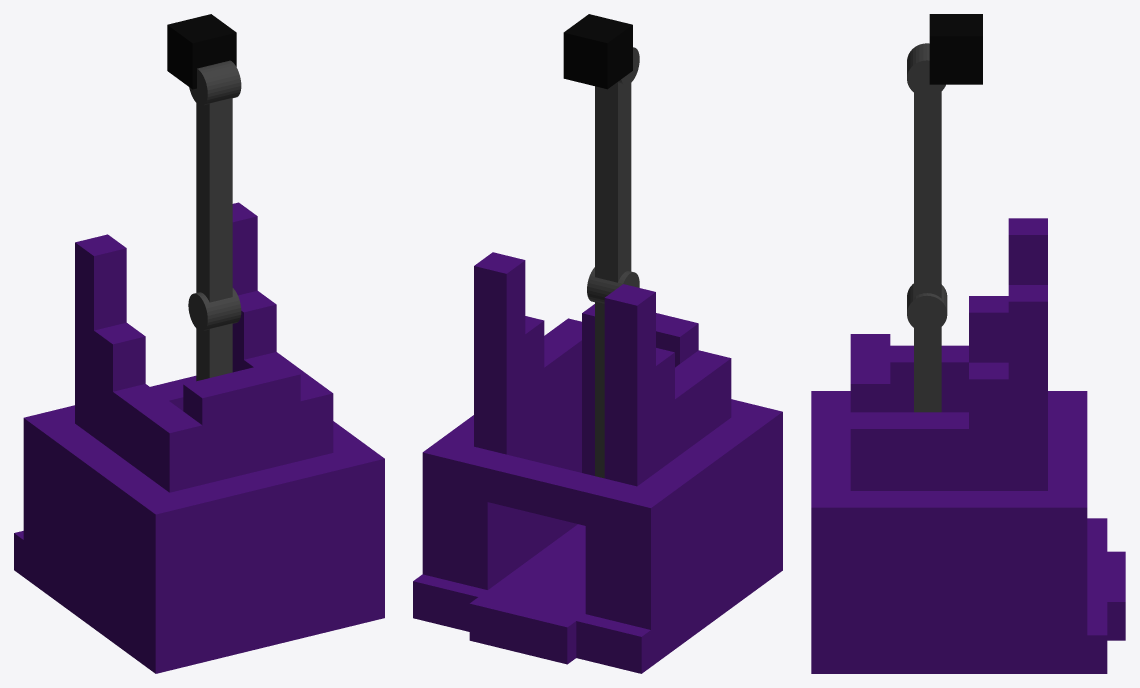
Rendered from FloorIntakeArm.fbx.
3 renders of one model, left to right at view 1: azimuth 30°, elevation 25°; view 2: azimuth 150°, elevation 25°; view 3: azimuth 270°, elevation 25°, orthographic. The views are drawn at different scales.
Parts seen in each view (by area): view 1: Base, MidArm, Grabber, BaseArm; view 2: Base, MidArm, Grabber, BaseArm; view 3: Base, MidArm, Grabber, BaseArm.
Boxes of the visible parts, x1,y1,x2,y2 form: Base: (14,202,384,673); MidArm: (189,60,241,302); Grabber: (167,14,236,89); BaseArm: (188,288,241,381); Base: (413,252,782,673); MidArm: (595,47,639,282); Grabber: (563,14,632,89); BaseArm: (587,267,639,478); Base: (811,218,1125,673); MidArm: (907,43,945,298); Grabber: (929,14,982,84); BaseArm: (907,283,947,412).
Bounding box in the file's own units: 73.41 × 64.5 × 152.
